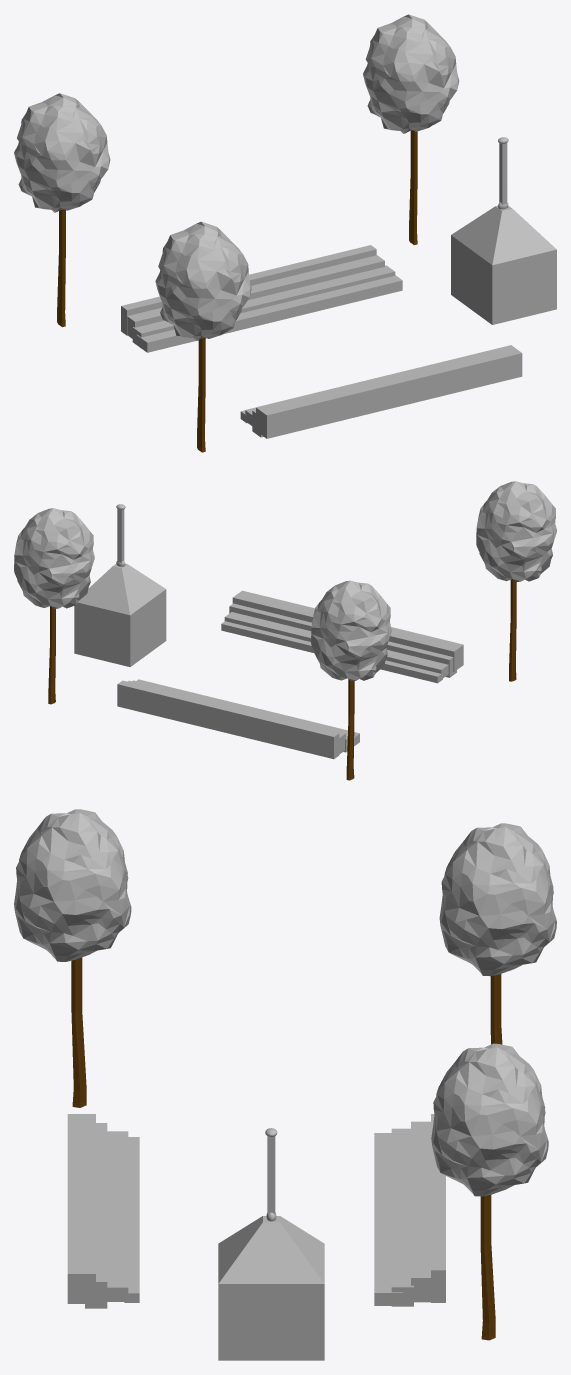
File: Race Track 1.fbx
The picture shows the model from 3 angles, top to bottom: view 1: azimuth 30°, elevation 25°; view 2: azimuth 150°, elevation 25°; view 3: azimuth 270°, elevation 25°; orthographic projection. The views are drawn at different scales.
Visible parts, largest first — view 1: pasted__pasted__pCube1 (×2), pCube1, pasted__pasted__pasted__pasted__pasted__pasted__pasted__pCub, pasted__pasted__pasted__pasted__pasted__pCube1, pasted__pasted__pasted__pasted__pasted__pasted__pCube1, pasted__pCube1, pasted__pasted__pCube2, pasted__pasted__pCube3, pasted__pasted__pasted__pasted__pasted__pasted__pCylinder1 (×2), pasted__pasted__pasted__pasted__pasted__pCylinder1, pCube5; view 2: pCube1, pasted__pasted__pasted__pasted__pasted__pasted__pCube1, pasted__pasted__pasted__pasted__pasted__pasted__pasted__pCub, pasted__pasted__pasted__pasted__pasted__pCube1, pasted__pasted__pCube3, pasted__pasted__pCube1 (×2), pasted__pasted__pasted__pCube2, pasted__pasted__pasted__pCube3, pasted__pasted__pasted__pCube1, pasted__pasted__pasted__pasted__pasted__pasted__pCylinder1 (×2), pasted__pasted__pasted__pasted__pasted__pCylinder1, pasted__pCube1 (+2 smaller); view 3: pCube1, pasted__pasted__pasted__pasted__pasted__pasted__pasted__pCub, pasted__pasted__pasted__pasted__pasted__pasted__pCube1, pasted__pasted__pasted__pasted__pasted__pCube1, pasted__pasted__pCube1 (×2), pasted__pasted__pasted__pCube2, pasted__pasted__pCube2, pasted__pCube1, pasted__pasted__pasted__pasted__pasted__pasted__pCylinder1 (×2), pasted__pasted__pasted__pCube1, pasted__pasted__pCube3, pasted__pasted__pasted__pCube3 (+2 smaller).
Part boxes in pixels (<box>): pasted__pasted__pCube1 (×2): <box>132,265,522,438</box>; pCube1: <box>451,205,556,324</box>; pasted__pasted__pasted__pasted__pasted__pasted__pasted__pCub: <box>363,14,459,133</box>; pasted__pasted__pasted__pasted__pasted__pCube1: <box>14,93,110,212</box>; pasted__pasted__pasted__pasted__pasted__pasted__pCube1: <box>155,221,251,340</box>; pasted__pCube1: <box>136,275,402,352</box>; pasted__pasted__pCube2: <box>127,255,384,338</box>; pasted__pasted__pCube3: <box>121,245,376,335</box>; pasted__pasted__pasted__pasted__pasted__pasted__pCylinder1 (×2): <box>57,130,417,327</box>; pasted__pasted__pasted__pasted__pasted__pCylinder1: <box>197,337,205,452</box>; pCube5: <box>499,143,507,204</box>; pCube1: <box>74,563,166,666</box>; pasted__pasted__pasted__pasted__pasted__pasted__pCube1: <box>476,481,556,582</box>; pasted__pasted__pasted__pasted__pasted__pasted__pasted__pCub: <box>14,508,94,608</box>; pasted__pasted__pasted__pasted__pasted__pCube1: <box>311,580,391,681</box>; pasted__pasted__pCube3: <box>117,680,339,759</box>; pasted__pasted__pCube1 (×2): <box>132,590,463,752</box>; pasted__pasted__pasted__pCube2: <box>224,612,448,678</box>; pasted__pasted__pasted__pCube3: <box>221,621,442,683</box>; pasted__pasted__pasted__pCube1: <box>229,603,456,677</box>; pasted__pasted__pasted__pasted__pasted__pasted__pCylinder1 (×2): <box>48,606,354,780</box>; pasted__pasted__pasted__pasted__pasted__pCylinder1: <box>509,579,516,681</box>; pasted__pCube1: <box>137,679,359,746</box>; pCube1: <box>218,1216,324,1360</box>; pasted__pasted__pasted__pasted__pasted__pasted__pasted__pCub: <box>431,1043,548,1196</box>; pasted__pasted__pasted__pasted__pasted__pasted__pCube1: <box>14,809,131,961</box>; pasted__pasted__pasted__pasted__pasted__pCube1: <box>439,823,556,976</box>; pasted__pasted__pCube1 (×2): <box>67,1114,413,1306</box>; pasted__pasted__pasted__pCube2: <box>107,1131,128,1301</box>; pasted__pasted__pCube2: <box>411,1121,434,1302</box>; pasted__pCube1: <box>374,1133,402,1305</box>; pasted__pasted__pasted__pasted__pasted__pasted__pCylinder1 (×2): <box>480,974,502,1340</box>; pasted__pasted__pasted__pCube1: <box>85,1123,107,1308</box>; pasted__pasted__pCube3: <box>431,1114,445,1302</box>; pasted__pasted__pasted__pCube3: <box>124,1137,139,1302</box>.
Size of the model in its own units: 2392 by 1182 by 1943.
